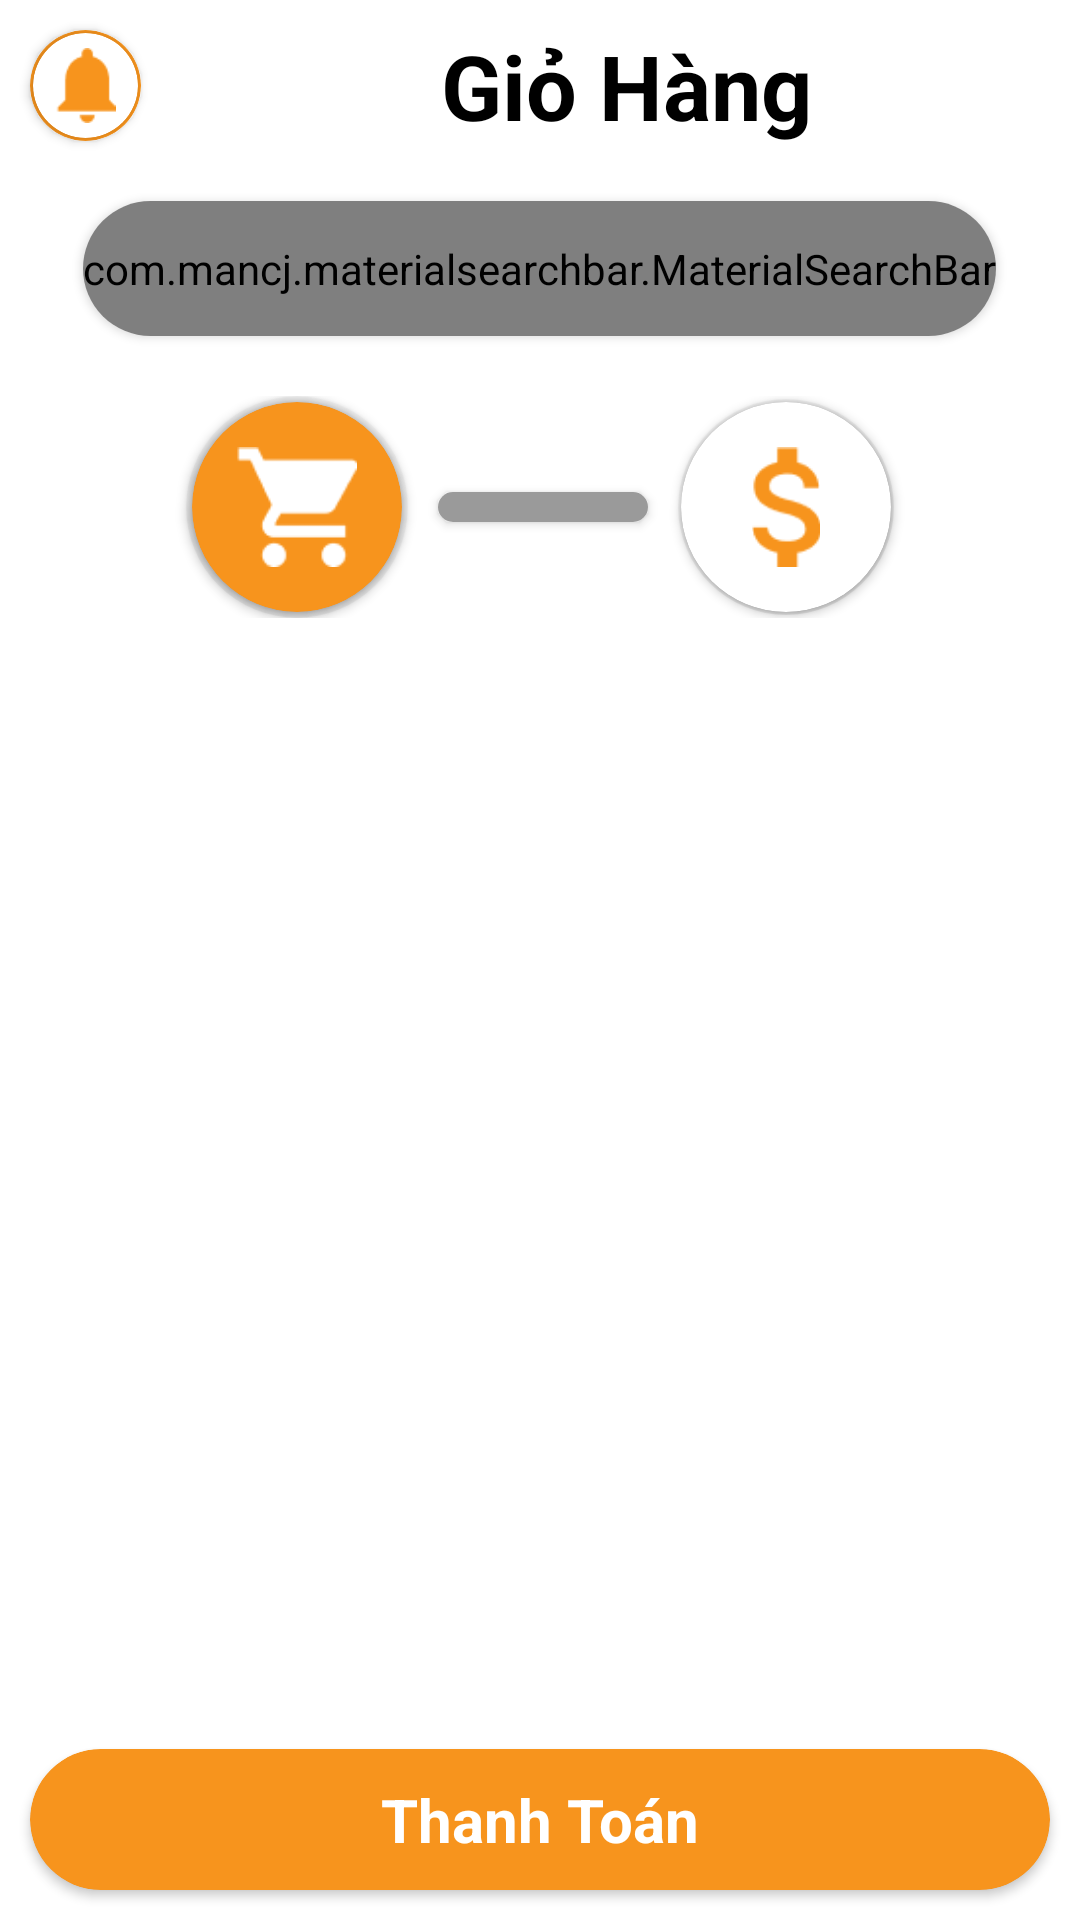

Icon click points for this 1080×1920 phone screenshot, format (x,y):
cart: (297,507)
dollar: (786,507)
notification: (86,85)
